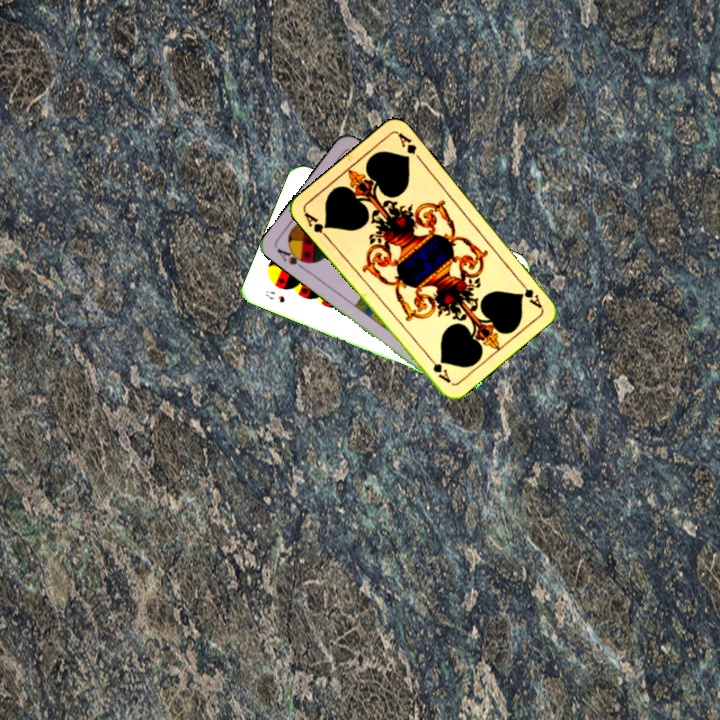GA: (300, 208, 332, 242), (514, 276, 544, 311)
S8: (261, 286, 287, 305)
SA: (272, 243, 312, 273)
